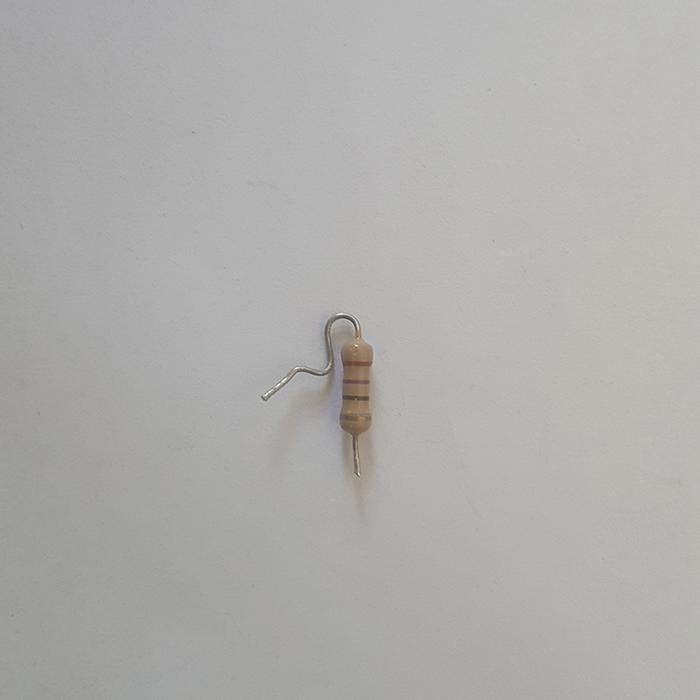resistor: (339, 330, 373, 441)
